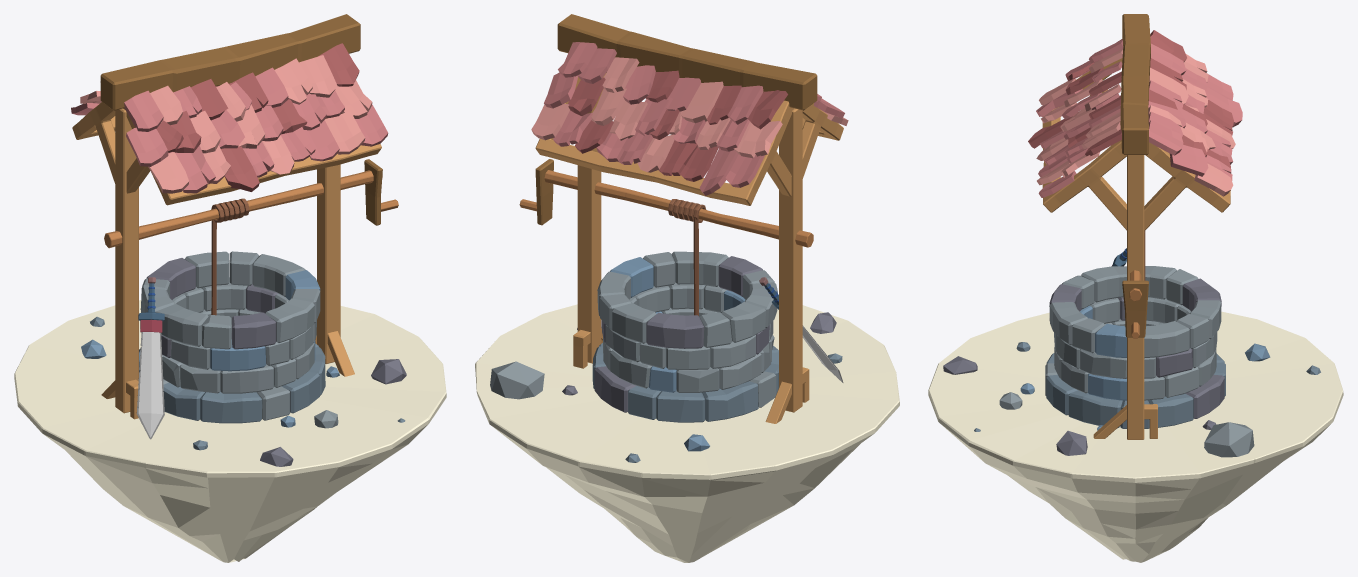
File: low_poly_well.glb
3 renders of one model, left to right at view 1: azimuth 30°, elevation 25°; view 2: azimuth 150°, elevation 25°; view 3: azimuth 270°, elevation 25°, orthographic. The views are drawn at different scales.
Visible parts, largest first — view 1: Cylinder.001_7, Cube.004_2, Plane.024_4, Cube.003_11, Cube.002_10, Cube_8, Cube.001_9, Cylinder.002_24, Cylinder_6, Icosphere.001_13; view 2: Cylinder.001_7, Cube.004_2, Plane.024_4, Cube.003_11, Cube_8, Cube.002_10, Cube.001_9, Icosphere.007_19, Cylinder_6, Cylinder.002_24; view 3: Cylinder.001_7, Plane.024_4, Cube.004_2, Cube.003_11, Cube_8, Cube.002_10, Cube.001_9, Icosphere.007_19, Icosphere.001_13.
Part boxes in pixels (x1=…): Cylinder.001_7: x1=14, y1=300, x2=446, y2=562; Cube.004_2: x1=72, y1=14, x2=398, y2=419; Plane.024_4: x1=71, y1=43, x2=388, y2=193; Cube.003_11: x1=140, y1=251, x2=320, y2=349; Cube.002_10: x1=161, y1=277, x2=316, y2=371; Cube_8: x1=139, y1=333, x2=325, y2=423; Cube.001_9: x1=162, y1=308, x2=315, y2=393; Cylinder.002_24: x1=136, y1=277, x2=164, y2=439; Cylinder_6: x1=211, y1=198, x2=249, y2=315; Icosphere.001_13: x1=371, y1=359, x2=406, y2=384; Cylinder.001_7: x1=475, y1=304, x2=899, y2=562; Cube.004_2: x1=519, y1=14, x2=843, y2=423; Plane.024_4: x1=531, y1=42, x2=848, y2=195; Cube.003_11: x1=597, y1=251, x2=777, y2=348; Cube_8: x1=592, y1=343, x2=778, y2=422; Cube.002_10: x1=602, y1=282, x2=773, y2=369; Cube.001_9: x1=603, y1=307, x2=774, y2=392; Icosphere.007_19: x1=490, y1=361, x2=544, y2=399; Cylinder_6: x1=668, y1=199, x2=706, y2=315; Cylinder.002_24: x1=759, y1=277, x2=843, y2=382; Cylinder.001_7: x1=928, y1=311, x2=1343, y2=562; Plane.024_4: x1=1028, y1=30, x2=1242, y2=197; Cube.004_2: x1=1042, y1=14, x2=1230, y2=439; Cube.003_11: x1=1049, y1=266, x2=1221, y2=358; Cube_8: x1=1045, y1=353, x2=1225, y2=428; Cube.002_10: x1=1054, y1=297, x2=1217, y2=378; Cube.001_9: x1=1054, y1=319, x2=1216, y2=400; Icosphere.007_19: x1=1204, y1=422, x2=1254, y2=457; Icosphere.001_13: x1=1056, y1=430, x2=1087, y2=455.
Bounding box in the file's own units: 30.94 × 39.9 × 30.93.
